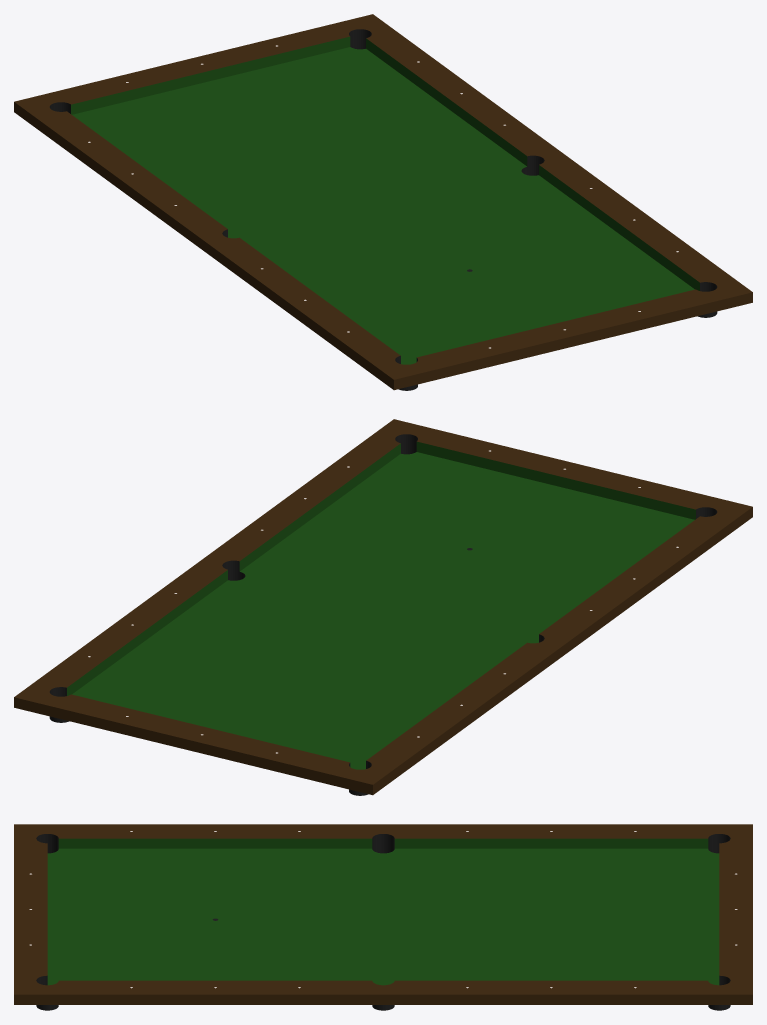
The model's file is poolTable.glb.
The picture shows the model from 3 angles, top to bottom: view 1: azimuth 30°, elevation 25°; view 2: azimuth 150°, elevation 25°; view 3: azimuth 270°, elevation 25°; orthographic projection. The views are drawn at different scales.
Parts seen in each view (by area): view 1: Plane; view 2: Plane; view 3: Plane.
Part boxes in pixels (x1,y1,x2,y2): Plane: [14, 14, 752, 390]; Plane: [14, 419, 752, 795]; Plane: [14, 824, 752, 1010].
Bounding box in the file's own units: 1.83 × 0.127 × 3.35.
